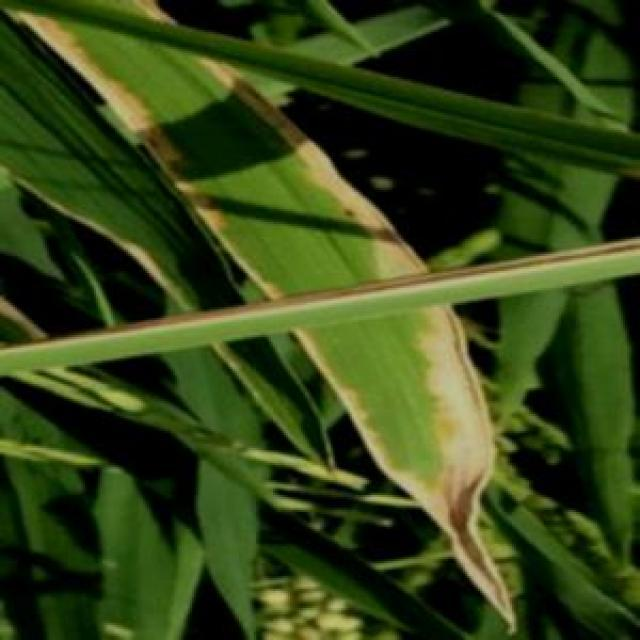Rice_Bacterial_Blight: (324, 298, 494, 528)
